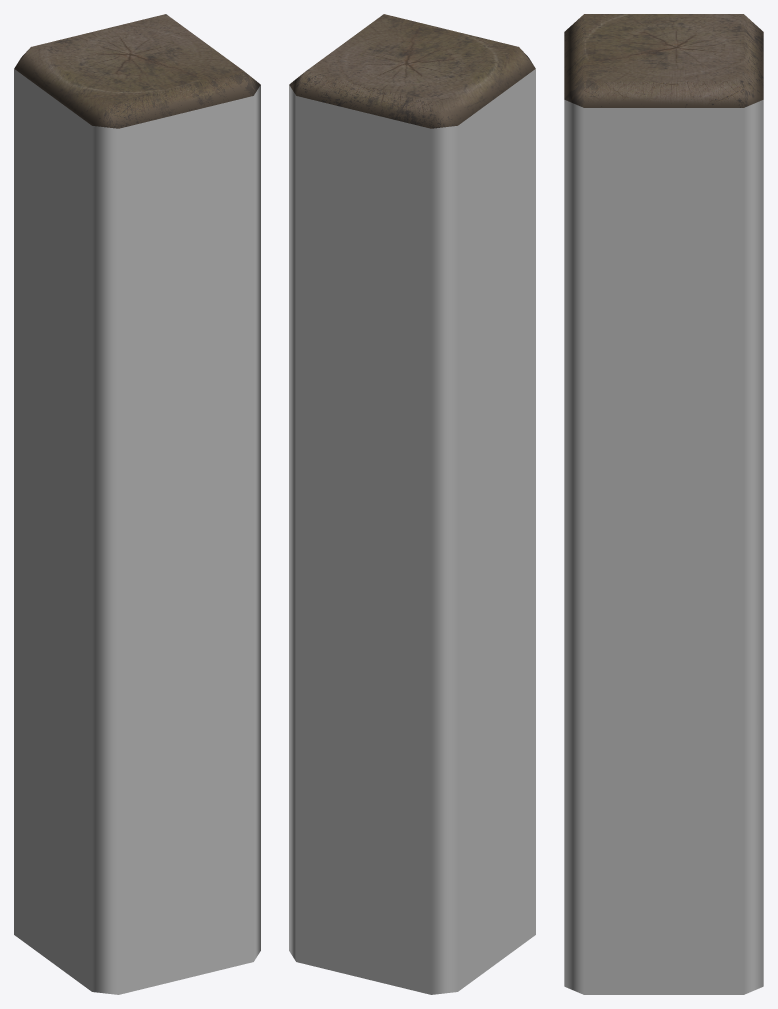
Rendered from SM_Column_end_30x30X150_01.fbx.
3 renders of one model, left to right at view 1: azimuth 30°, elevation 25°; view 2: azimuth 150°, elevation 25°; view 3: azimuth 270°, elevation 25°, orthographic. The views are drawn at different scales.
Parts seen in each view (by area): view 1: SM_Column_end_30x30X150_01_LOD0; view 2: SM_Column_end_30x30X150_01_LOD0; view 3: SM_Column_end_30x30X150_01_LOD0.
Part boxes in pixels (box(x1,y1,x2,y2)): SM_Column_end_30x30X150_01_LOD0: box(14, 14, 260, 994); SM_Column_end_30x30X150_01_LOD0: box(289, 14, 535, 994); SM_Column_end_30x30X150_01_LOD0: box(564, 14, 763, 994).
Bounding box in the file's own units: 30 × 30 × 150.
